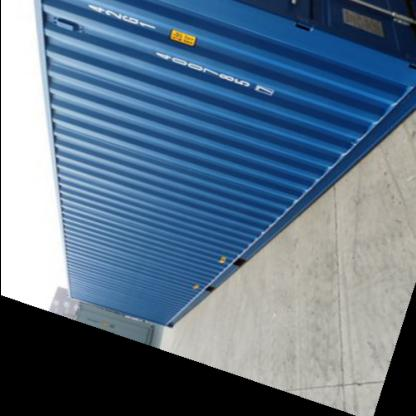Damage: (176, 277, 198, 301)
